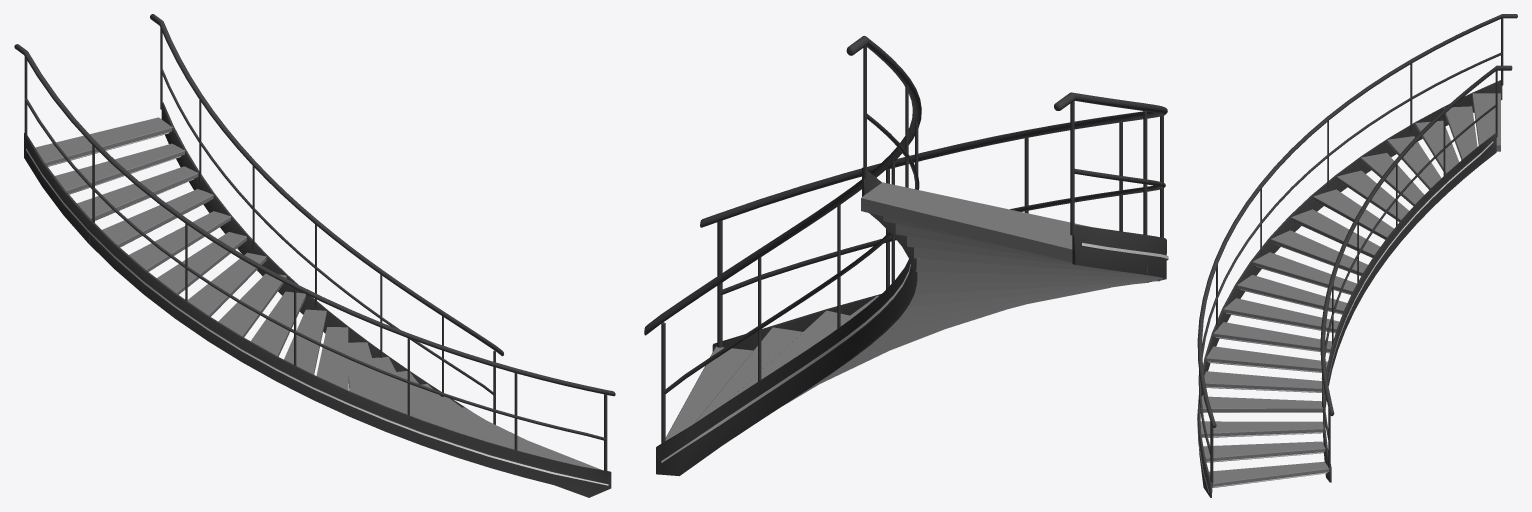
The model's file is StairsMetalSpiral01.FBX.
3 views of the same model, side by side, from view 1: azimuth 30°, elevation 25°; view 2: azimuth 150°, elevation 25°; view 3: azimuth 270°, elevation 25° (orthographic). The views are drawn at different scales.
Visible parts, largest first — view 1: StairsSpiral01; view 2: StairsSpiral01; view 3: StairsSpiral01.
Part boxes in pixels (bbox=[...]): StairsSpiral01: bbox=[14, 14, 615, 497]; StairsSpiral01: bbox=[644, 36, 1168, 476]; StairsSpiral01: bbox=[1197, 14, 1517, 497].
Size of what is drawn, in the model's own units: 530 by 496 by 443.
